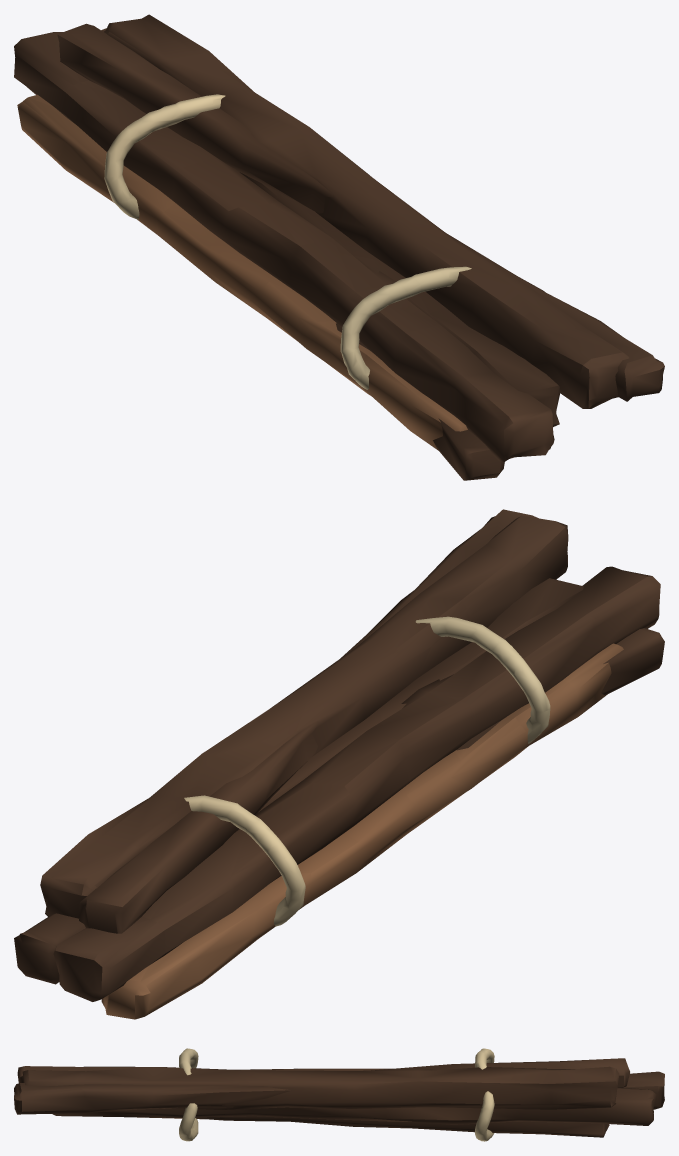
File: ember_kindling.glb
3 views of the same model, one above another, from view 1: azimuth 30°, elevation 25°; view 2: azimuth 150°, elevation 25°; view 3: azimuth 270°, elevation 25° (orthographic). The views are drawn at different scales.
Visible parts, largest first — view 1: ember_kindling; view 2: ember_kindling; view 3: ember_kindling.
Part boxes in pixels (box(x1,y1,x2,y2)): ember_kindling: box(14, 14, 664, 480); ember_kindling: box(14, 509, 664, 1019); ember_kindling: box(14, 1048, 664, 1141).
Bounding box in the file's own units: 4.61 × 2.85 × 21.99.
